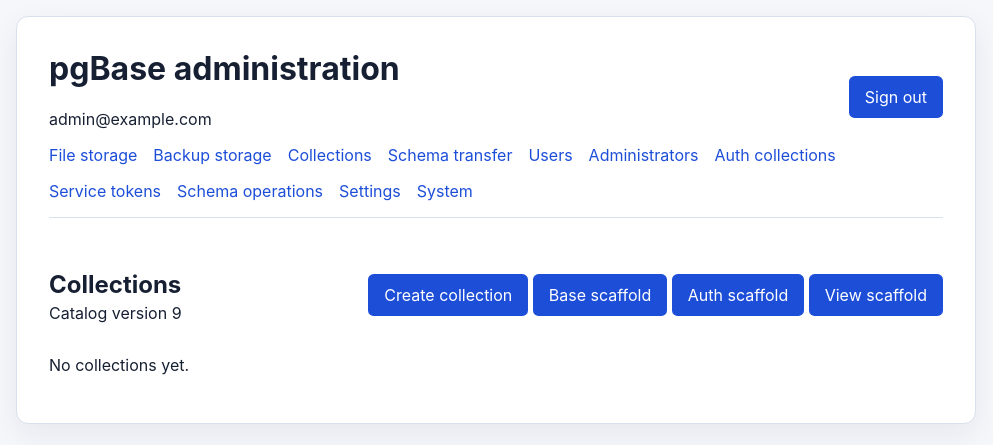
Test: administration shell › reaches the schema operation history as a typed route a new tab could open
Expected: the heading "Collections" is shown, [49,270,182,299]
Click the link "Schema operations" at (250, 191), box [177,181,323,201]
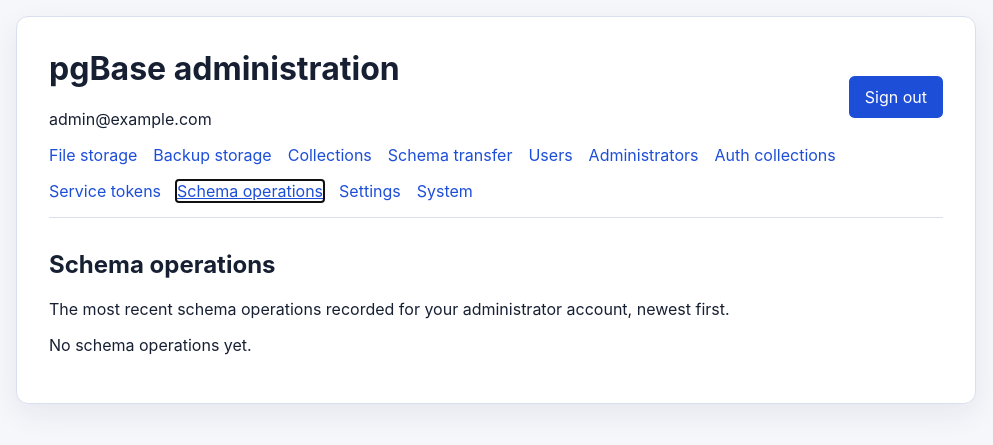
Expected: the heading "Schema operations" is shown, [49,250,276,279]
